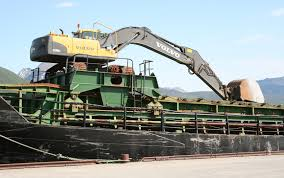excavator: (29, 27, 266, 102)
